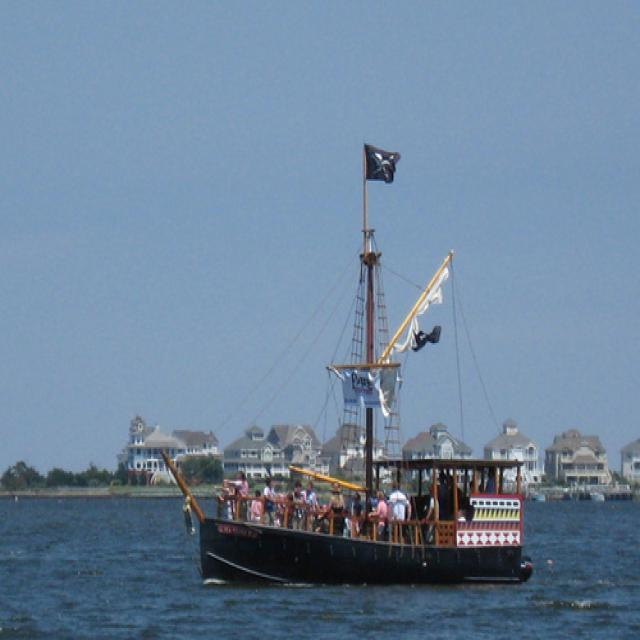Ship: (144, 136, 524, 584)
